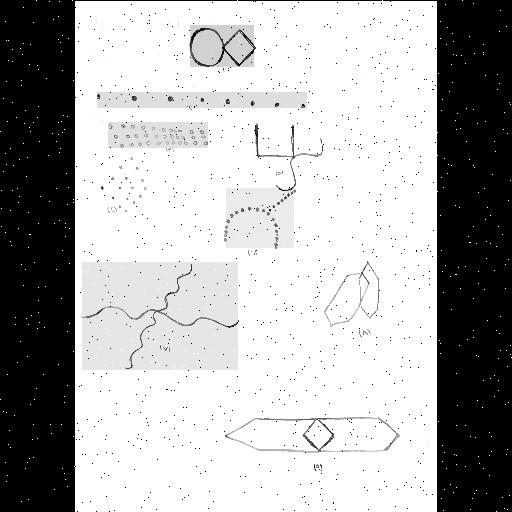shape-1: (190, 25, 254, 67)
shape-2: (97, 92, 307, 108)
shape-3: (108, 122, 208, 148)
shape-4: (100, 156, 148, 212)
shape-5: (256, 122, 322, 188)
shape-6: (226, 188, 294, 248)
shape-7: (82, 262, 238, 370)
shape-8: (322, 260, 380, 326)
shape-9: (227, 416, 397, 454)
